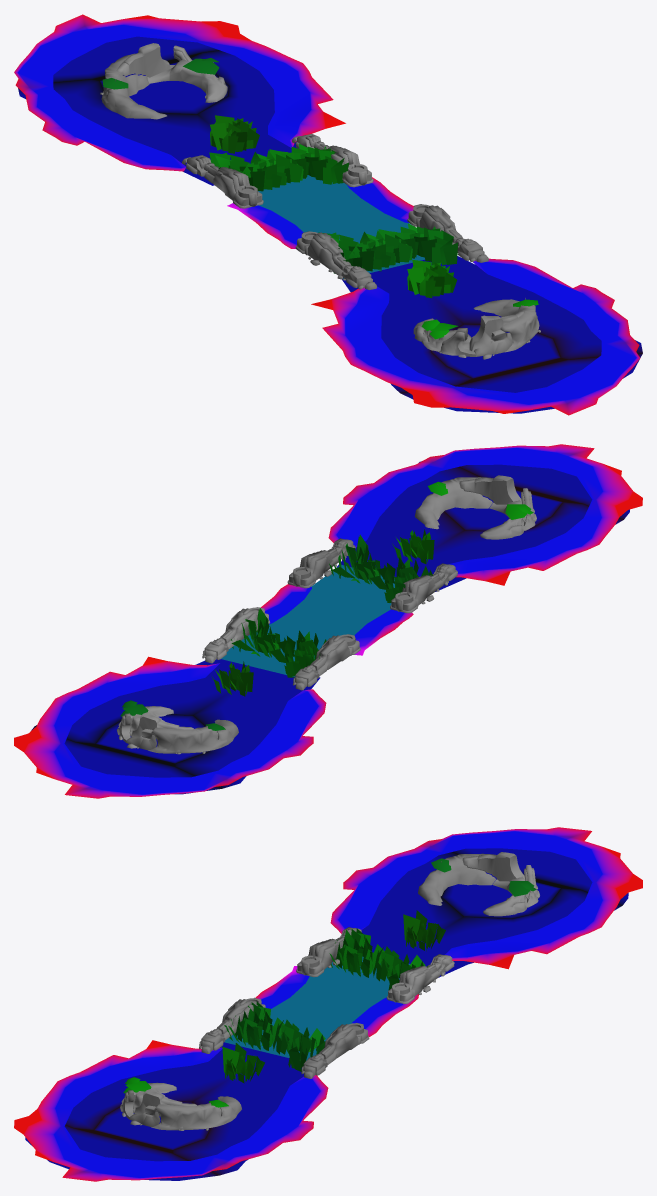
File: sungaihanung21.fbx
The picture shows the model from 3 angles, top to bottom: view 1: azimuth 30°, elevation 25°; view 2: azimuth 150°, elevation 25°; view 3: azimuth 330°, elevation 25°; orthographic projection. The views are drawn at different scales.
Parts seen in each view (by area): view 1: ML_5v5_low_terrain_01_30_0, ML_5v5_low_terrain_01_31_0.001, ML_5v5_low_terrain_01_30_0.001, ML_5v5_low_terrain_01_31_0, Plane, ML_5v5_low_zdgrass_01_34_0, ML_5v5_low_zdgrass_01_34_0.001, ML_5v5_low_dalong_02_0.001, ML_5v5_low_dalong_02_0, ML_5v5_low_terrain_01_29_0, ML_5v5_low_hedao_03_0.002, ML_5v5_low_hedao_03_0 (+7 smaller); view 2: ML_5v5_low_terrain_01_31_0, ML_5v5_low_terrain_01_30_0, ML_5v5_low_terrain_01_30_0.001, ML_5v5_low_terrain_01_31_0.001, Plane, ML_5v5_low_zdgrass_01_34_0.001, ML_5v5_low_zdgrass_01_34_0, ML_5v5_low_dalong_02_0, ML_5v5_low_terrain_01_29_0, ML_5v5_low_dalong_01_0.001, ML_5v5_low_dalong_01_0, ML_5v5_low_dalong_02_0.001 (+7 smaller); view 3: ML_5v5_low_terrain_01_31_0.001, ML_5v5_low_terrain_01_30_0.001, ML_5v5_low_terrain_01_30_0, ML_5v5_low_terrain_01_31_0, Plane, ML_5v5_low_zdgrass_01_34_0, ML_5v5_low_zdgrass_01_34_0.001, ML_5v5_low_dalong_02_0.001, ML_5v5_low_dalong_01_0, ML_5v5_low_terrain_01_29_0, ML_5v5_low_dalong_01_0.001, ML_5v5_low_dalong_02_0 (+7 smaller).
Boxes of the visible parts, x1=… form: ML_5v5_low_terrain_01_30_0: x1=14, y1=14, x2=345, y2=171; ML_5v5_low_terrain_01_31_0.001: x1=342, y1=256, x2=642, y2=413; ML_5v5_low_terrain_01_30_0.001: x1=311, y1=258, x2=640, y2=415; ML_5v5_low_terrain_01_31_0: x1=18, y1=36, x2=297, y2=185; Plane: x1=258, y1=175, x2=424, y2=278; ML_5v5_low_zdgrass_01_34_0: x1=318, y1=223, x2=457, y2=273; ML_5v5_low_zdgrass_01_34_0.001: x1=209, y1=143, x2=348, y2=191; ML_5v5_low_dalong_02_0.001: x1=116, y1=43, x2=227, y2=102; ML_5v5_low_dalong_02_0: x1=413, y1=311, x2=524, y2=359; ML_5v5_low_terrain_01_29_0: x1=227, y1=177, x2=413, y2=248; ML_5v5_low_hedao_03_0.002: x1=295, y1=231, x2=377, y2=289; ML_5v5_low_hedao_03_0: x1=182, y1=155, x2=263, y2=208; ML_5v5_low_terrain_01_31_0: x1=31, y1=659, x2=320, y2=794; ML_5v5_low_terrain_01_30_0: x1=14, y1=656, x2=326, y2=798; ML_5v5_low_terrain_01_30_0.001: x1=328, y1=444, x2=642, y2=585; ML_5v5_low_terrain_01_31_0.001: x1=336, y1=461, x2=629, y2=591; Plane: x1=221, y1=565, x2=394, y2=676; ML_5v5_low_zdgrass_01_34_0.001: x1=231, y1=608, x2=326, y2=677; ML_5v5_low_zdgrass_01_34_0: x1=329, y1=534, x2=432, y2=602; ML_5v5_low_dalong_02_0: x1=459, y1=475, x2=536, y2=539; ML_5v5_low_terrain_01_29_0: x1=261, y1=584, x2=413, y2=655; ML_5v5_low_dalong_01_0.001: x1=148, y1=719, x2=238, y2=754; ML_5v5_low_dalong_01_0: x1=415, y1=477, x2=493, y2=529; ML_5v5_low_dalong_02_0.001: x1=117, y1=706, x2=193, y2=750; ML_5v5_low_terrain_01_31_0.001: x1=25, y1=1042, x2=303, y2=1180; ML_5v5_low_terrain_01_30_0.001: x1=14, y1=1040, x2=328, y2=1181; ML_5v5_low_terrain_01_30_0: x1=330, y1=827, x2=642, y2=969; ML_5v5_low_terrain_01_31_0: x1=361, y1=848, x2=628, y2=977; Plane: x1=224, y1=956, x2=410, y2=1060; ML_5v5_low_zdgrass_01_34_0: x1=224, y1=1001, x2=325, y2=1071; ML_5v5_low_zdgrass_01_34_0.001: x1=329, y1=928, x2=427, y2=989; ML_5v5_low_dalong_02_0.001: x1=463, y1=852, x2=539, y2=916; ML_5v5_low_dalong_01_0: x1=151, y1=1096, x2=241, y2=1130; ML_5v5_low_terrain_01_29_0: x1=255, y1=966, x2=418, y2=1036; ML_5v5_low_dalong_01_0.001: x1=418, y1=853, x2=496, y2=905; ML_5v5_low_dalong_02_0: x1=120, y1=1082, x2=197, y2=1126.
Bounding box in the file's own units: 1854 × 292 × 6255.
